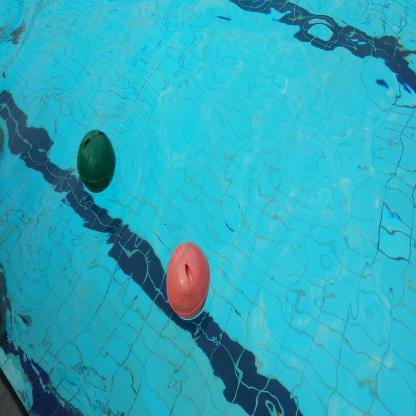green_buoy: (71, 120, 122, 199)
red_buoy: (160, 235, 215, 331)
